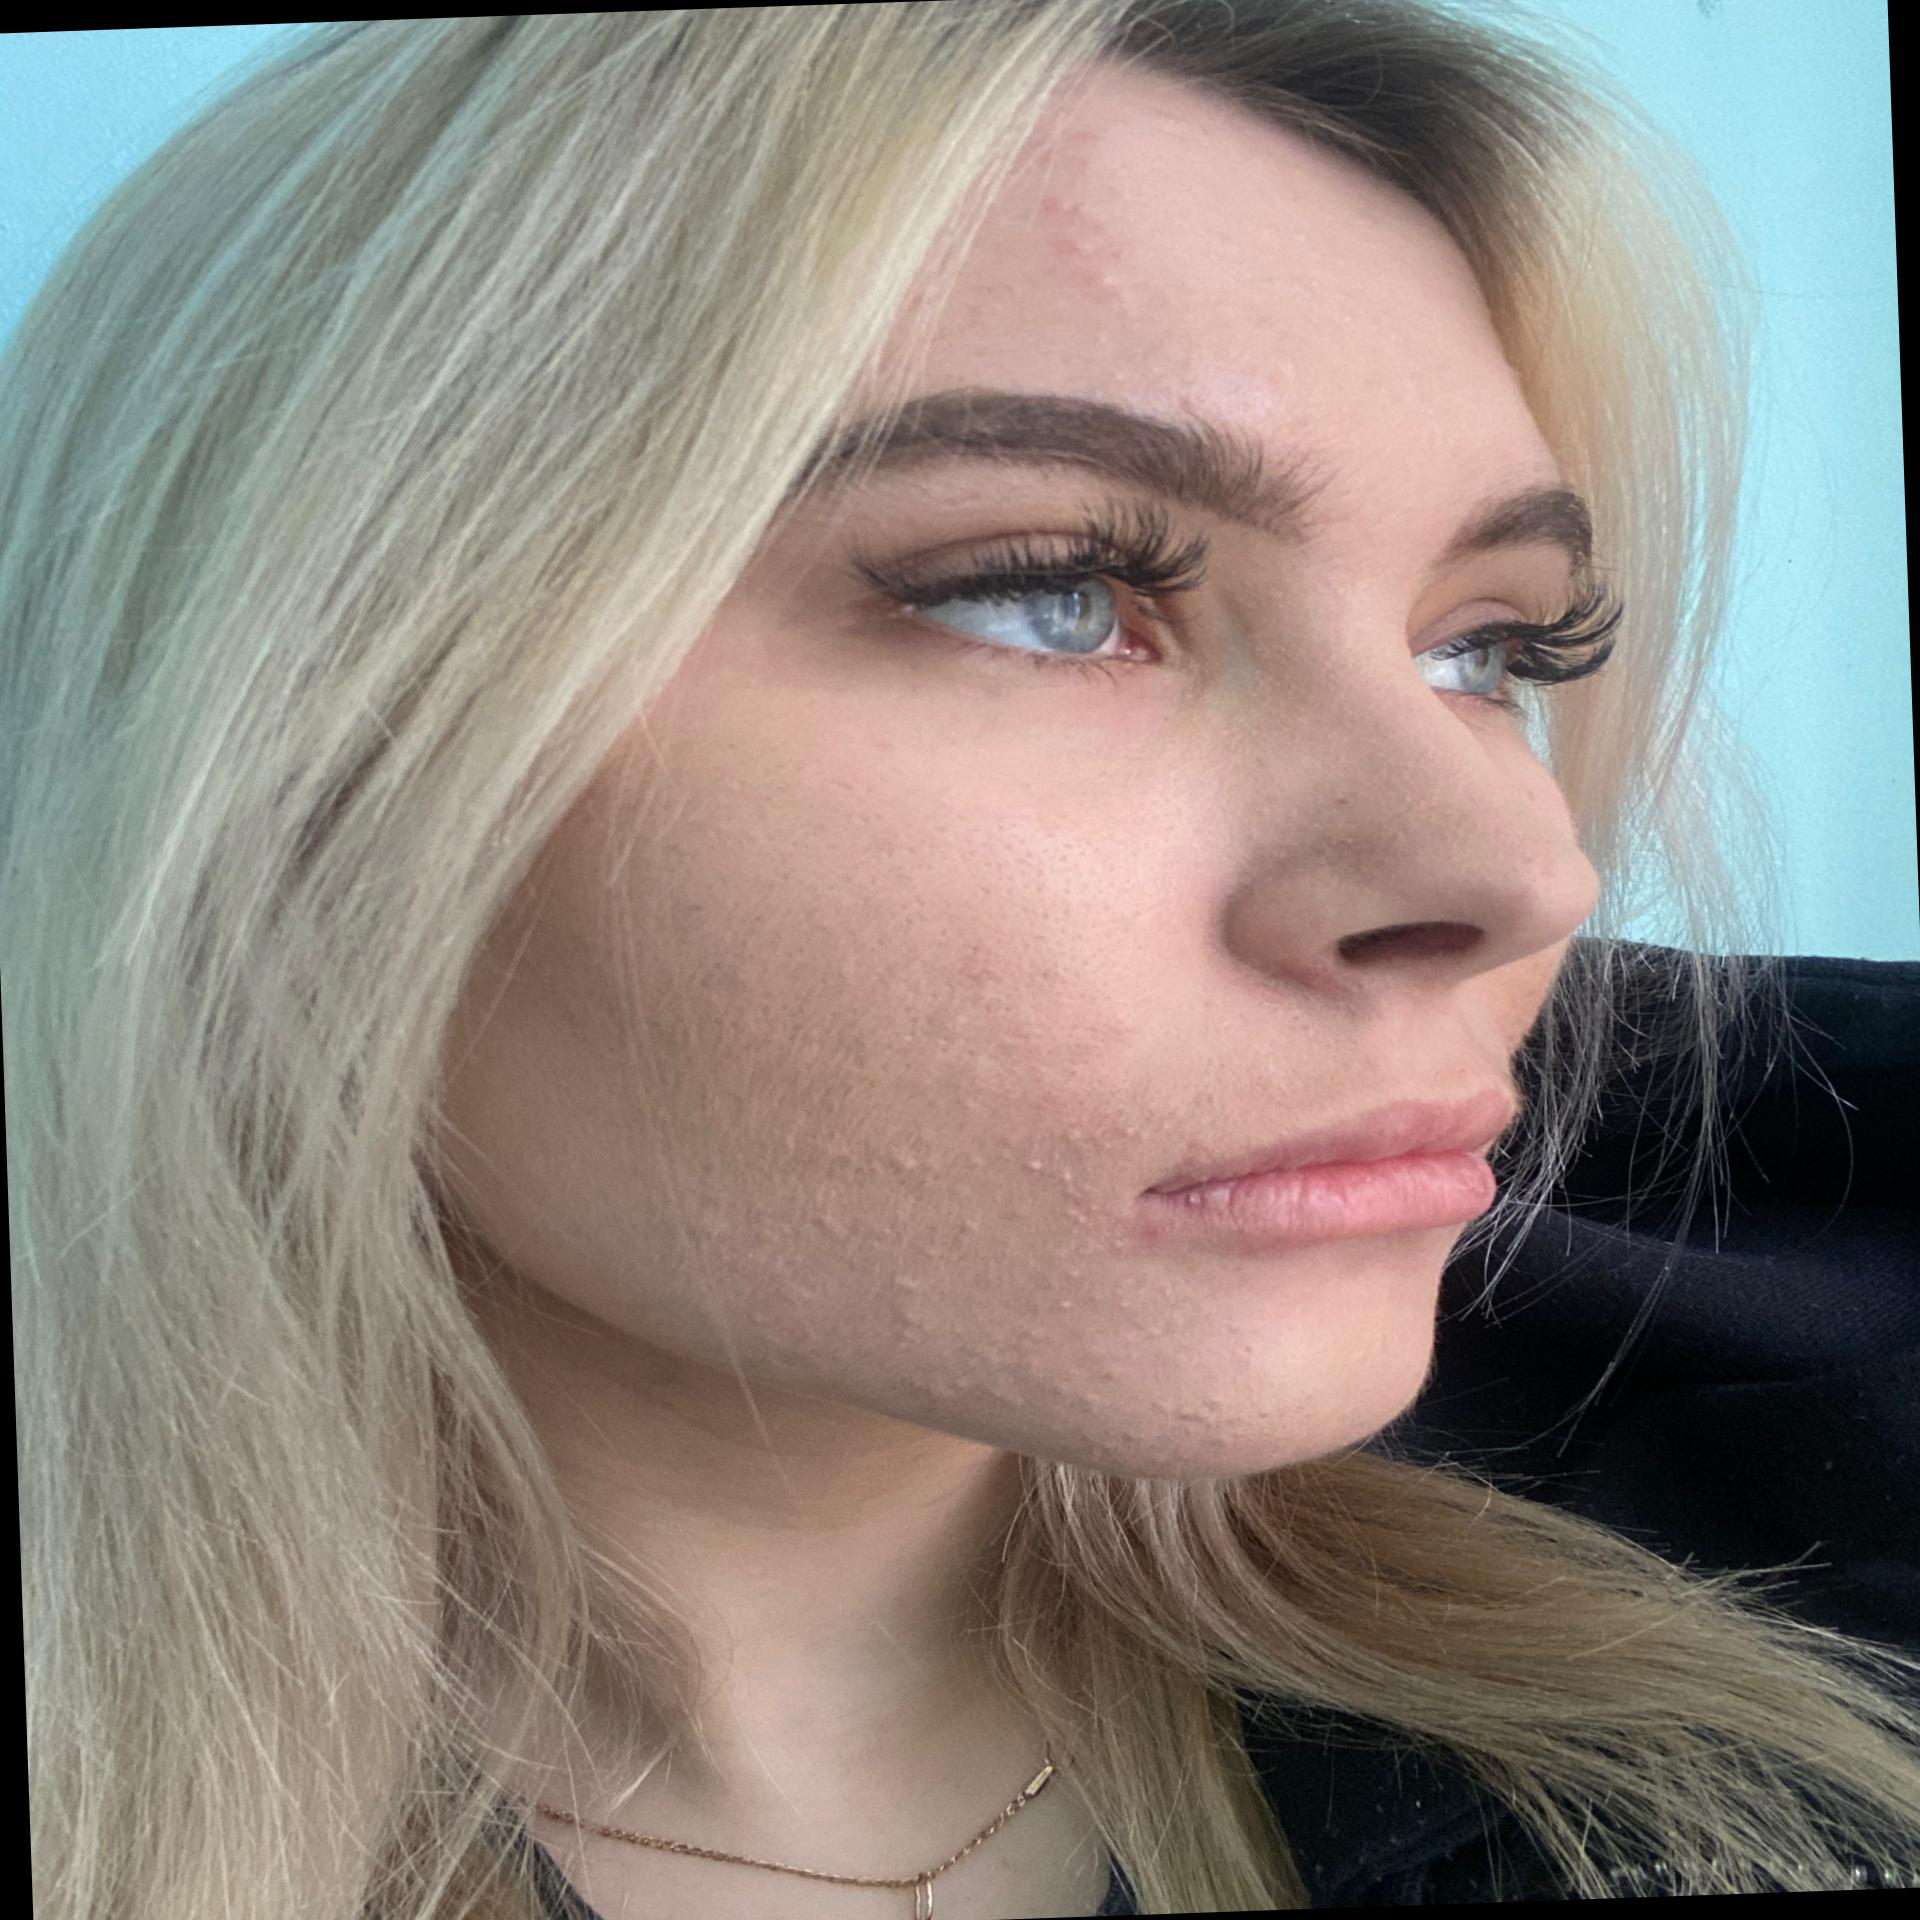Acne: (1015, 1118, 1143, 1291), (897, 1285, 1062, 1408), (1030, 181, 1138, 324), (1065, 1385, 1257, 1463)
Englarged Pores: (960, 796, 1143, 974)
